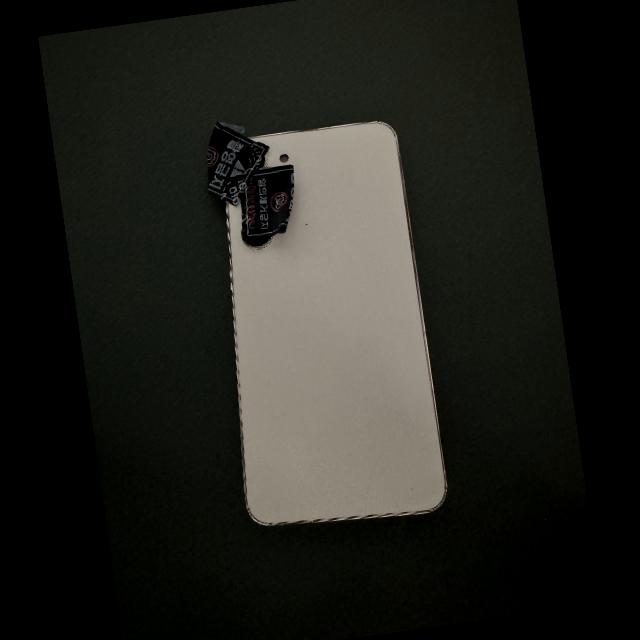lens: (245, 238, 272, 248), (260, 155, 267, 167)
phone: (223, 121, 447, 527)
sticker: (208, 121, 270, 207), (240, 165, 294, 242)
